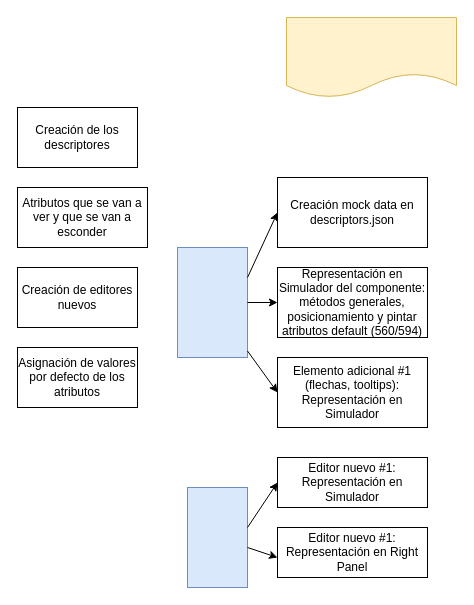
Some shapes in this 474 by 605 pixel diagram are drawn without their labels. The centre of each missing label's shape, as x and y in pixels:
Componente nuevo (560): point 212,302
Editor Nuevo: point 217,537
Super-story (Épica): point 371,57
